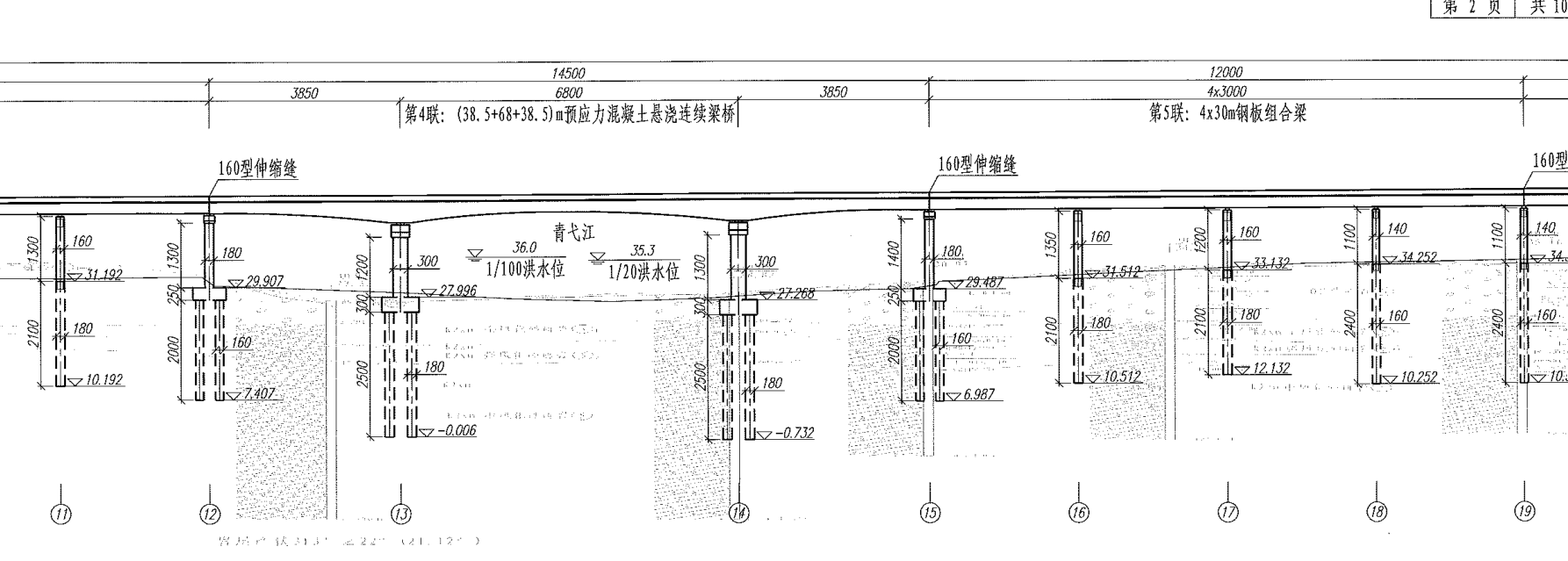B: (193, 63, 946, 108), (916, 57, 1533, 91)
C: (173, 210, 300, 538), (702, 212, 832, 531), (367, 212, 495, 530), (898, 206, 1021, 530), (1349, 195, 1456, 527), (1201, 196, 1307, 527), (36, 202, 140, 526), (1056, 205, 1156, 531), (1498, 195, 1567, 527)
